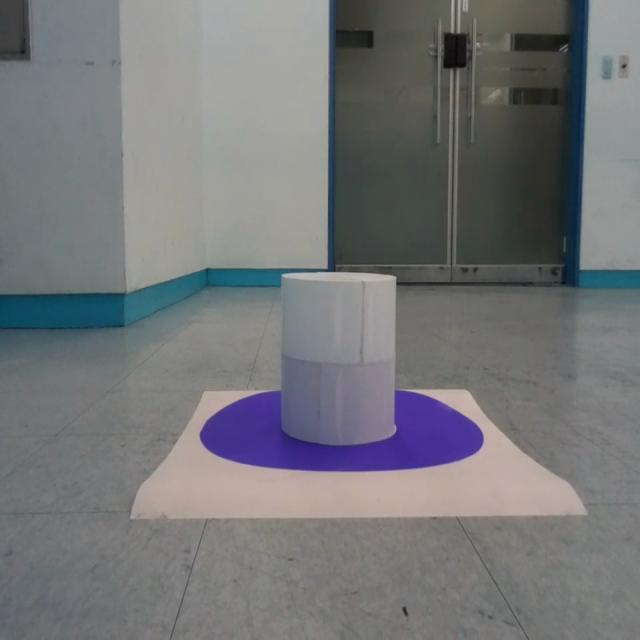cylinder: (280, 271, 398, 447)
